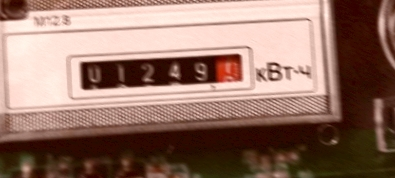0: (86, 63, 101, 83)
1: (113, 61, 126, 83)
2: (138, 61, 155, 84)
4: (167, 59, 181, 80)
7: (221, 54, 235, 74)
9: (193, 60, 207, 82)
screen: (64, 41, 257, 101)
